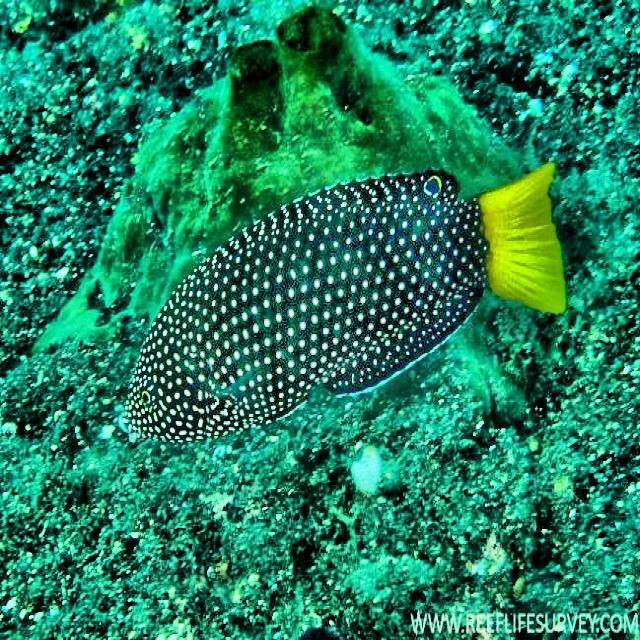fish: (122, 162, 568, 442)
